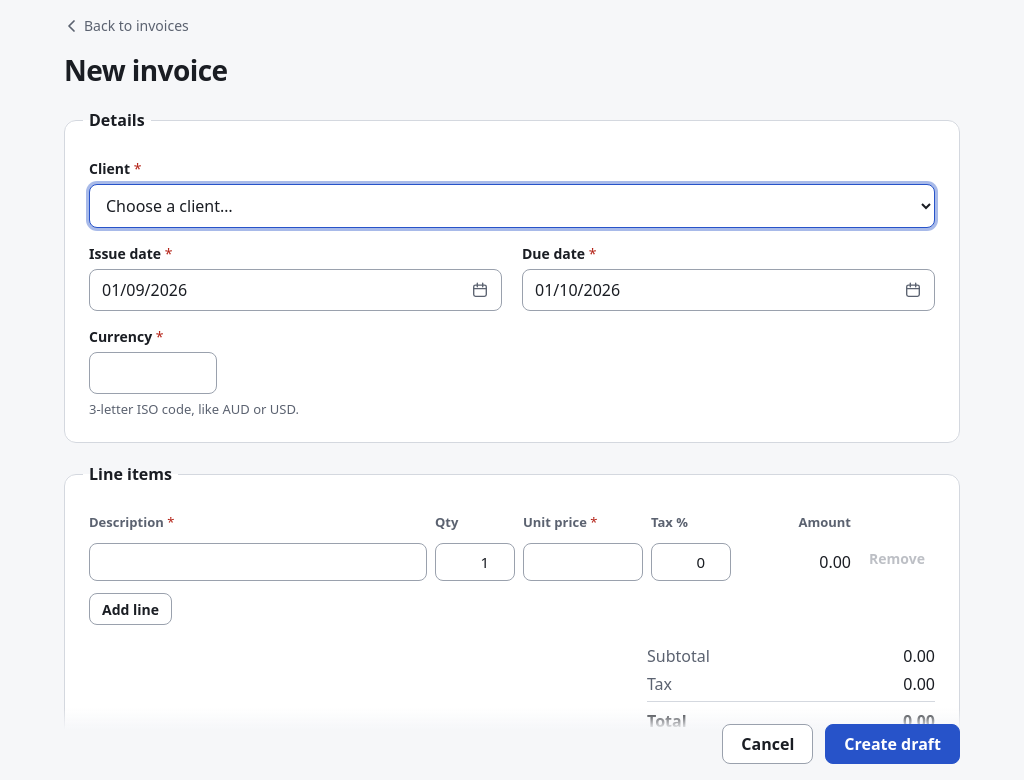
Test case: InvoiceForm › flags missing fields instead of submitting
Click the button "Create draft" at (893, 744), box [825,724,960,764]
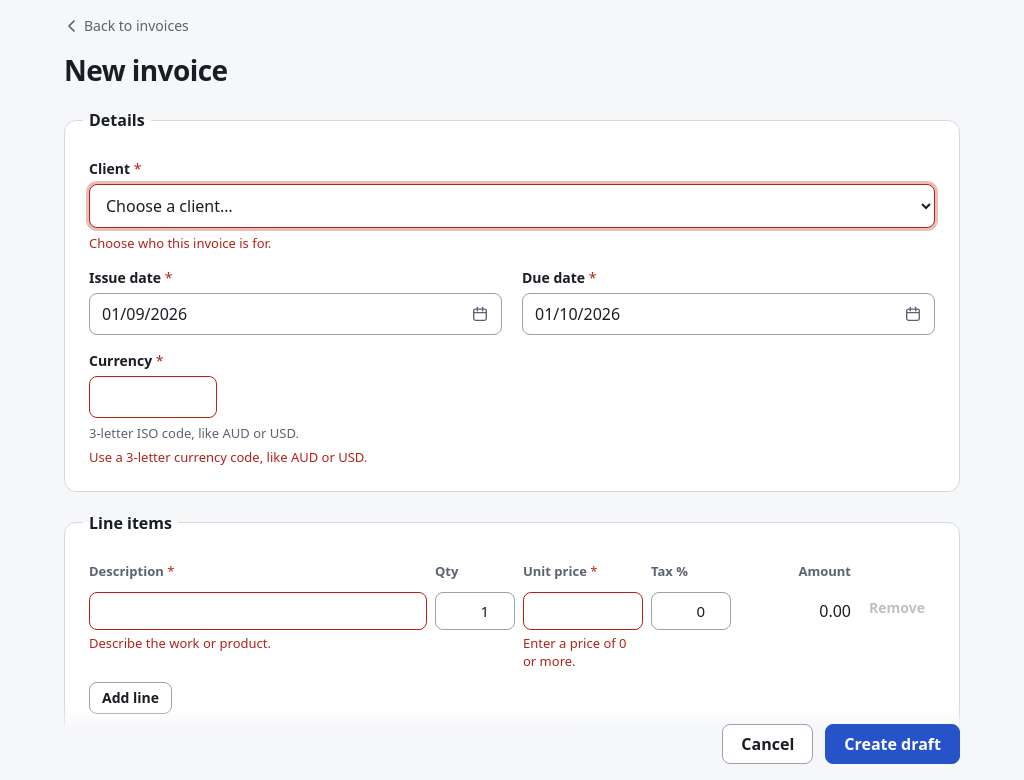
Expected: the text "Choose who this invoice is for." is shown, [89,234,271,252]
Expected: the text "Use a 3-letter currency code, like AUD or USD." is shown, [89,448,367,466]
Expected: the text "Describe the work or product." is shown, [89,634,271,652]
